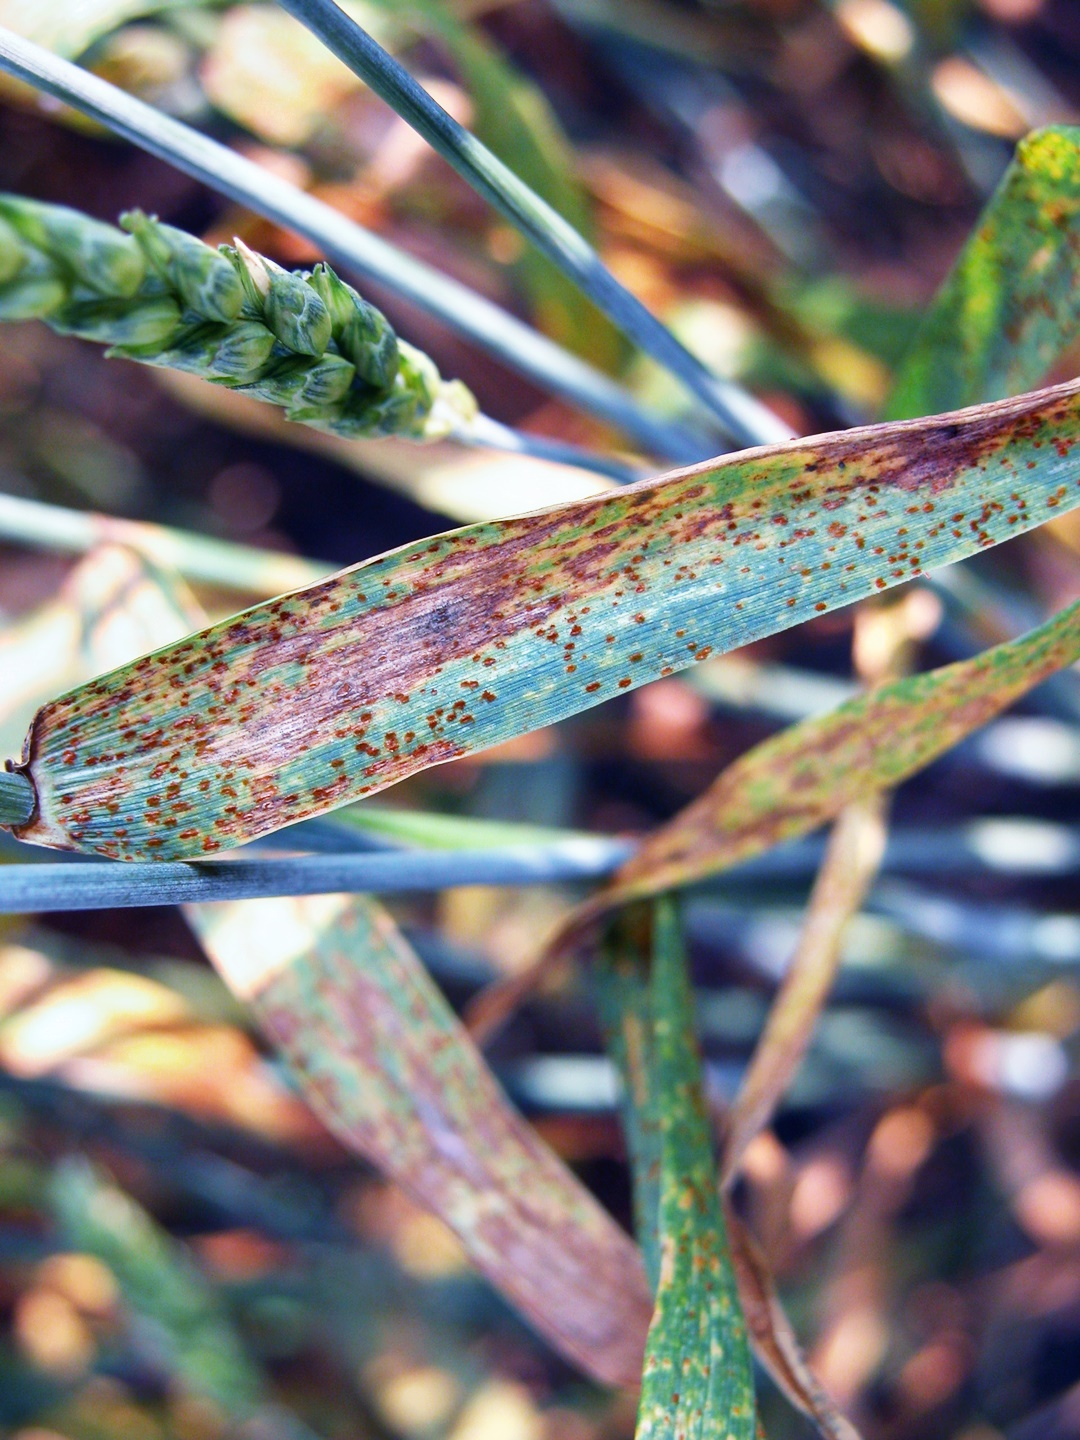Leaf Rust: (98, 443, 935, 838)
